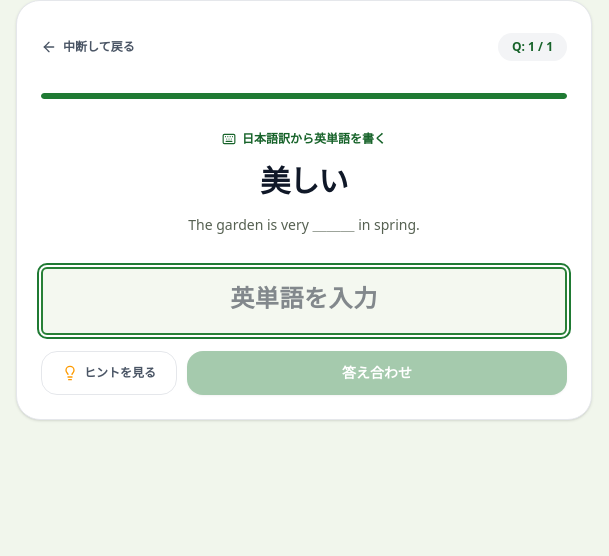
it: 答え合わせ › 正解すると、正誤が読み上げにも伝わる
Type "beautiful" into the field with id "spelling_input" at x=304, y=301, box [41,267,567,335]
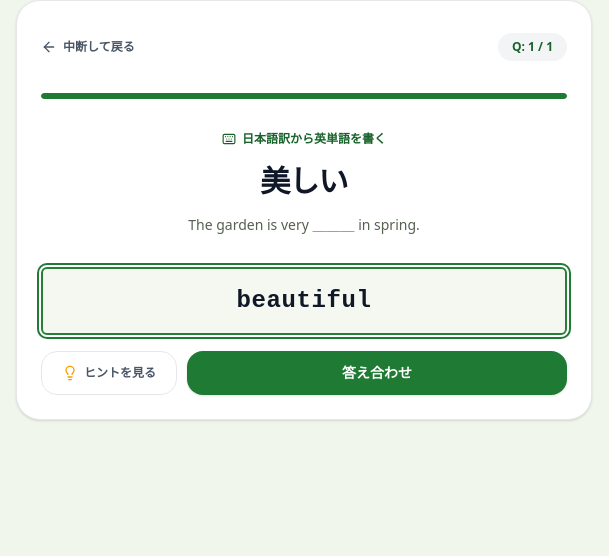
Click the button with id "btn_spelling_submit" at x=377, y=373, box [187,351,567,395]
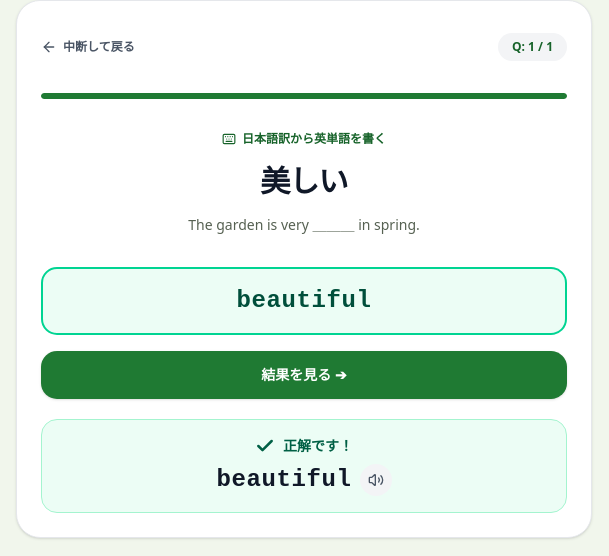
Result: the message "正解です！ beautiful" is shown at [41,419,567,513]
